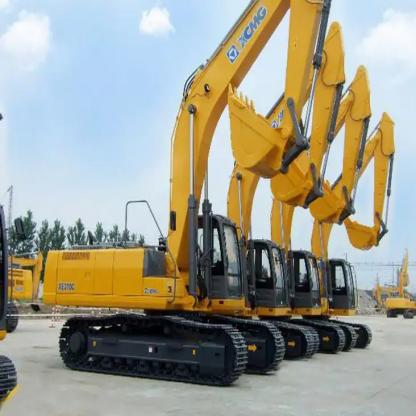excavator: (28, 5, 393, 392), (381, 245, 415, 324)
